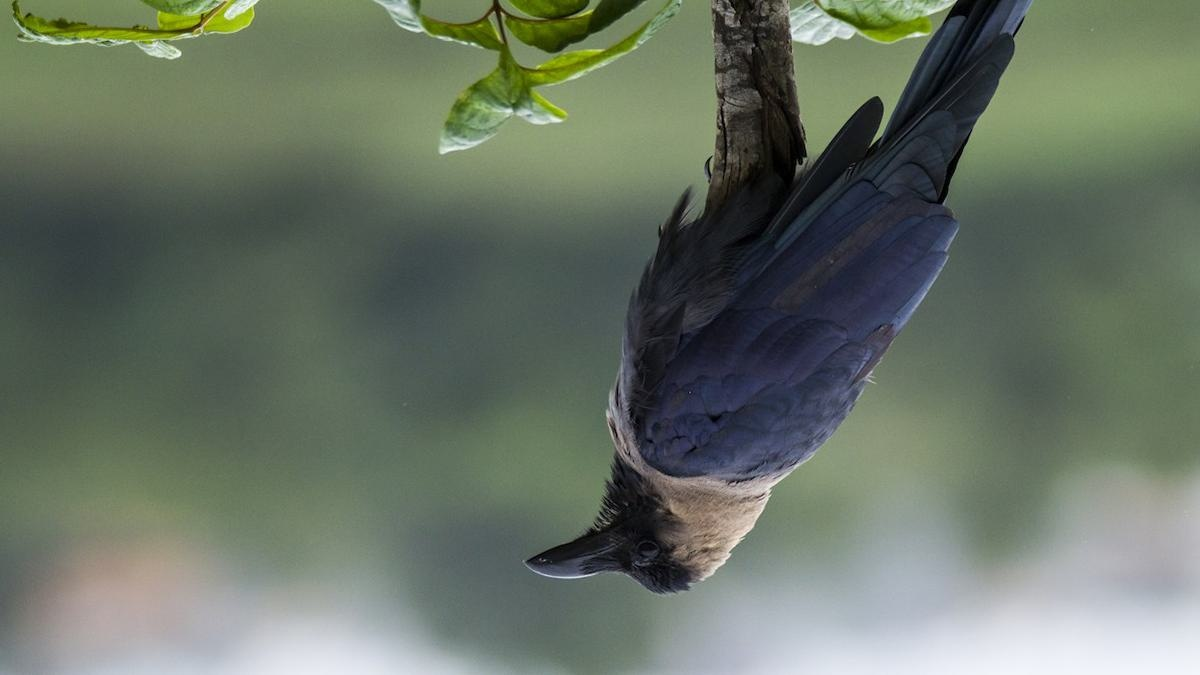crow: (514, 1, 1031, 602)
